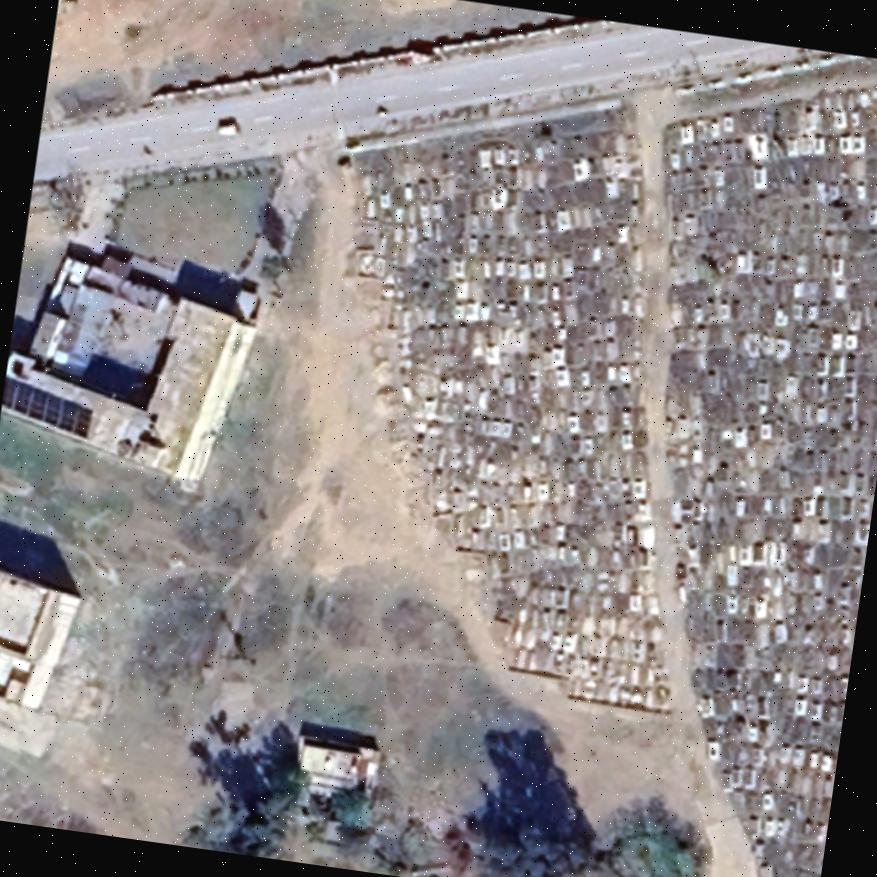Solarpanel: (0, 370, 97, 441)
